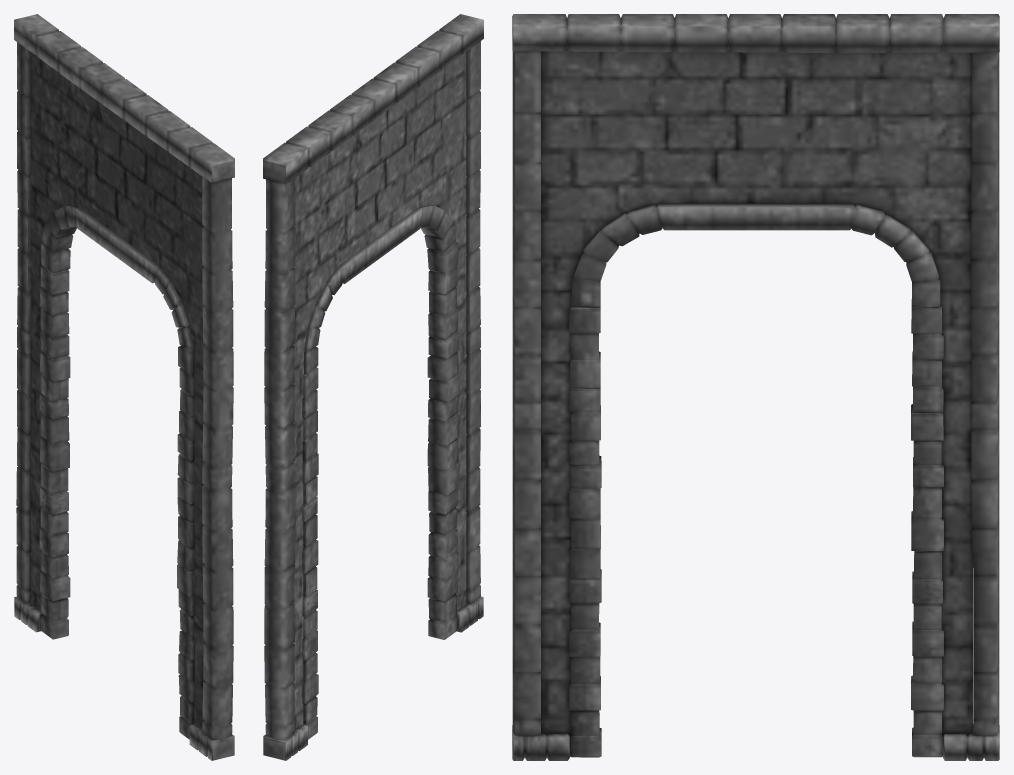
File: SM_WallGate_Stone_b79123.glb
3 views of the same model, side by side, from view 1: azimuth 30°, elevation 25°; view 2: azimuth 150°, elevation 25°; view 3: azimuth 270°, elevation 25° (orthographic). The views are drawn at different scales.
Size of the model in its own units: 0.276 by 6.64 by 4.
1 material, 1 textured.
